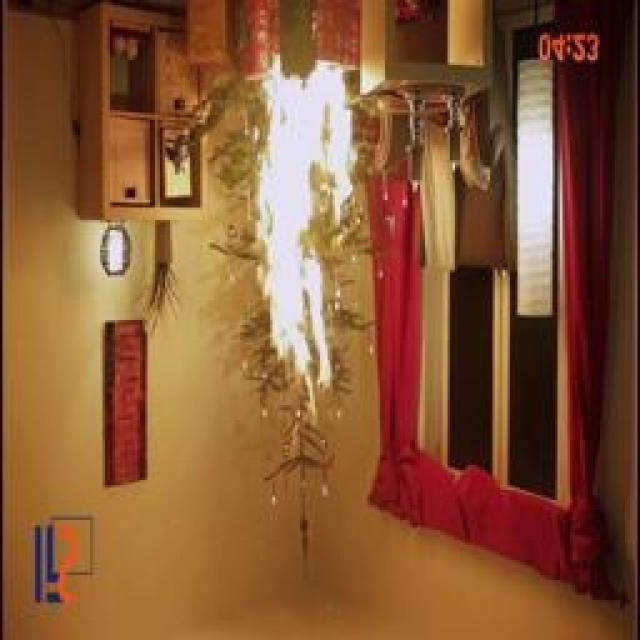fire: (232, 61, 380, 414)
